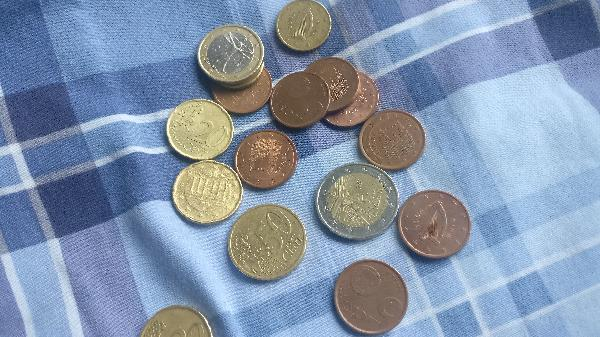Fifty Cent: (224, 204, 309, 283)
Five Cent: (334, 257, 410, 332), (403, 189, 472, 254), (356, 111, 426, 170), (231, 132, 299, 187), (203, 61, 272, 115), (306, 57, 366, 116), (270, 76, 331, 125), (319, 73, 375, 125)
One Euro: (198, 24, 267, 82)
Ten Cent: (273, 1, 332, 51)
Twenty Cent: (168, 160, 241, 224), (169, 97, 232, 156), (138, 305, 212, 337)
Two Euro: (317, 161, 398, 240)
